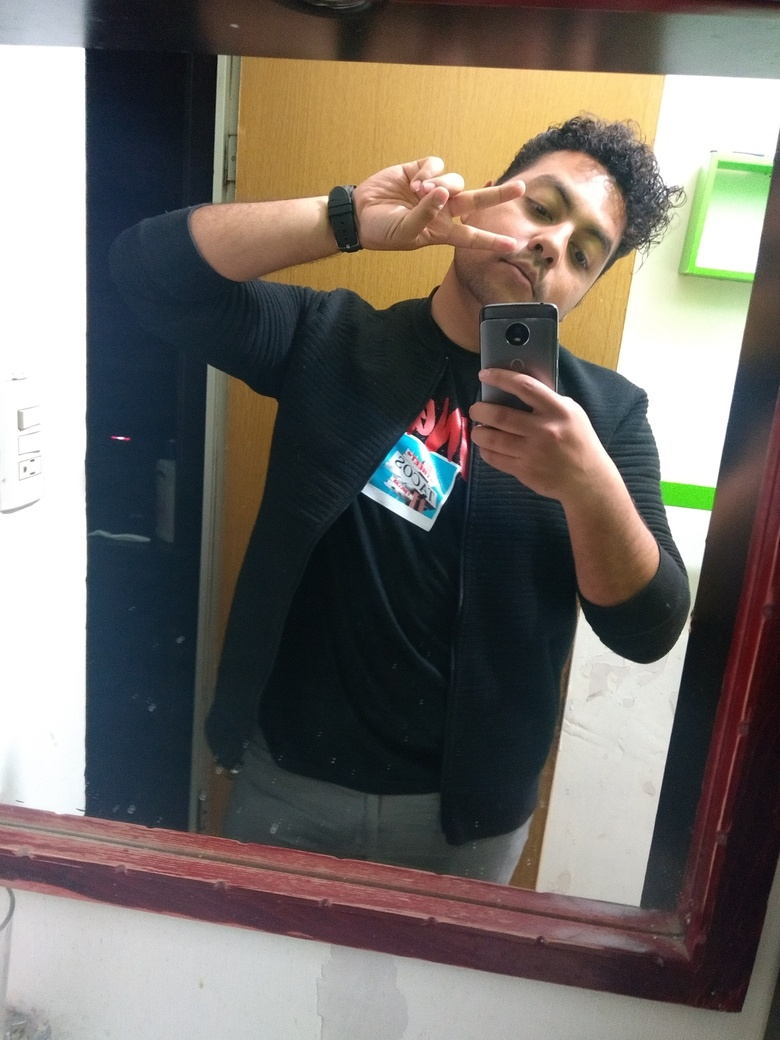Yoshi: (433, 81, 684, 357)
